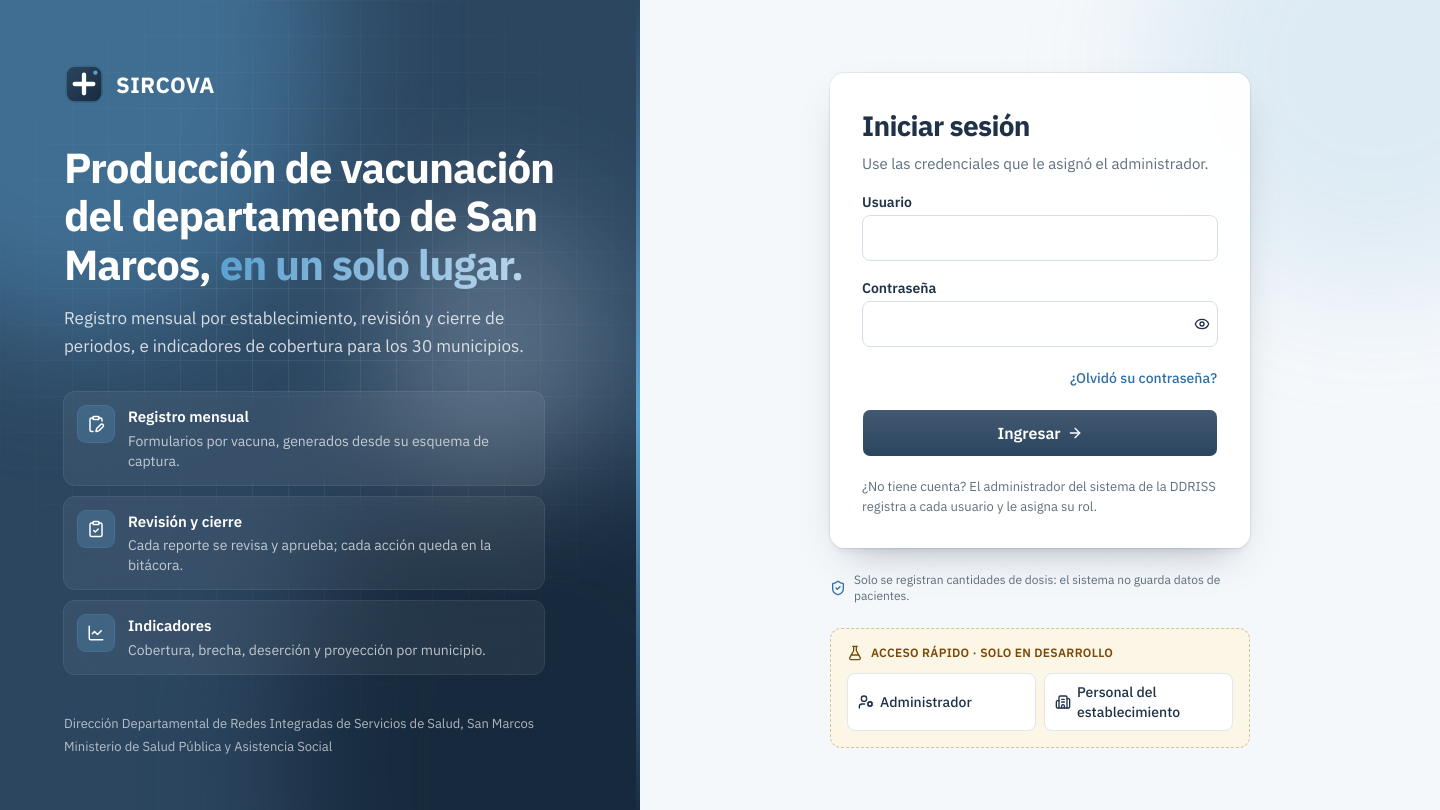
Test: con un 403 se muestra su mensaje
Expected: the heading "Iniciar sesión" is shown, [862,107,1030,144]
Type "jperez" into the field labelled "Usuario" at (1040, 238), box [862,215,1218,261]
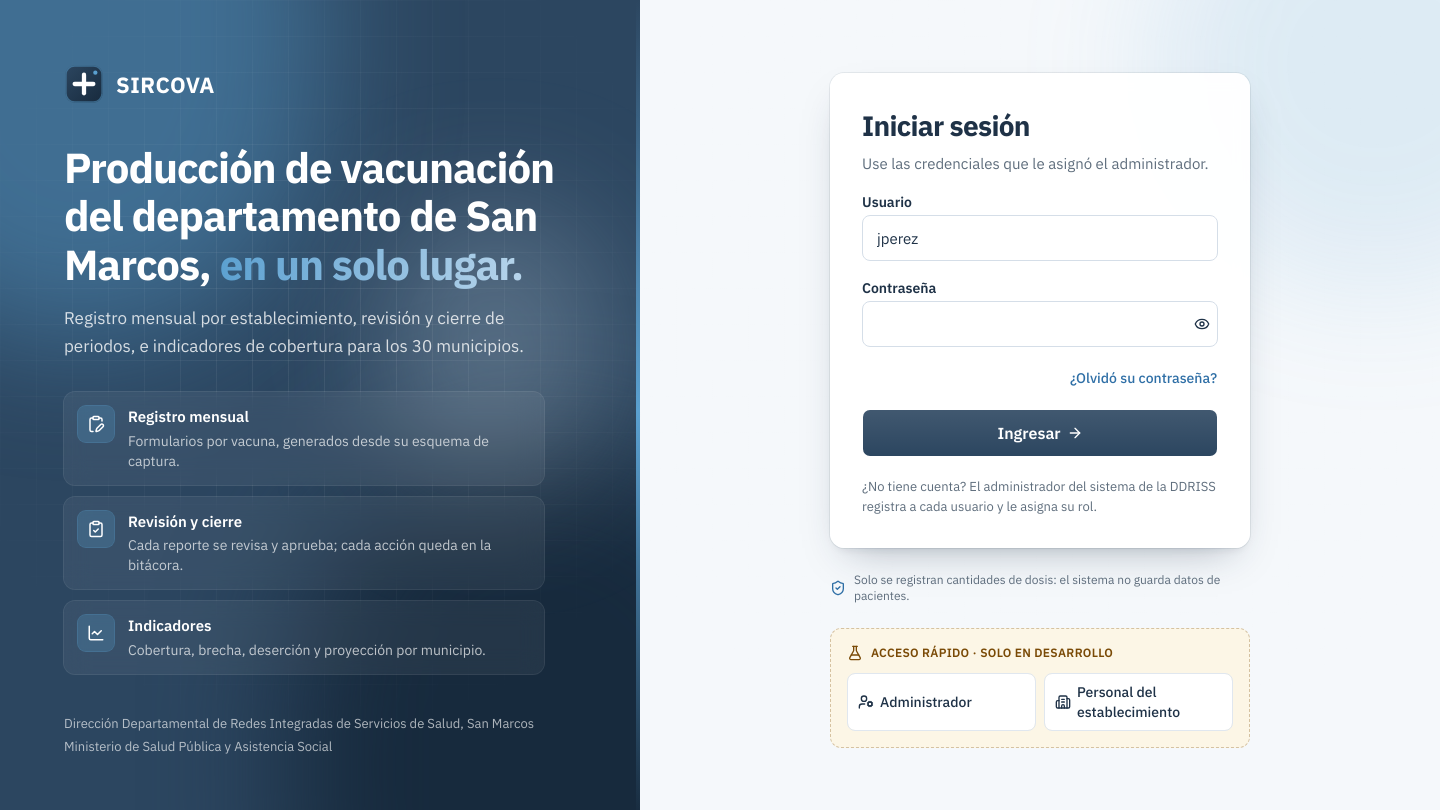
Type "secreta123" into the password field labelled "Contraseña" at (1040, 324), box [862,301,1218,347]
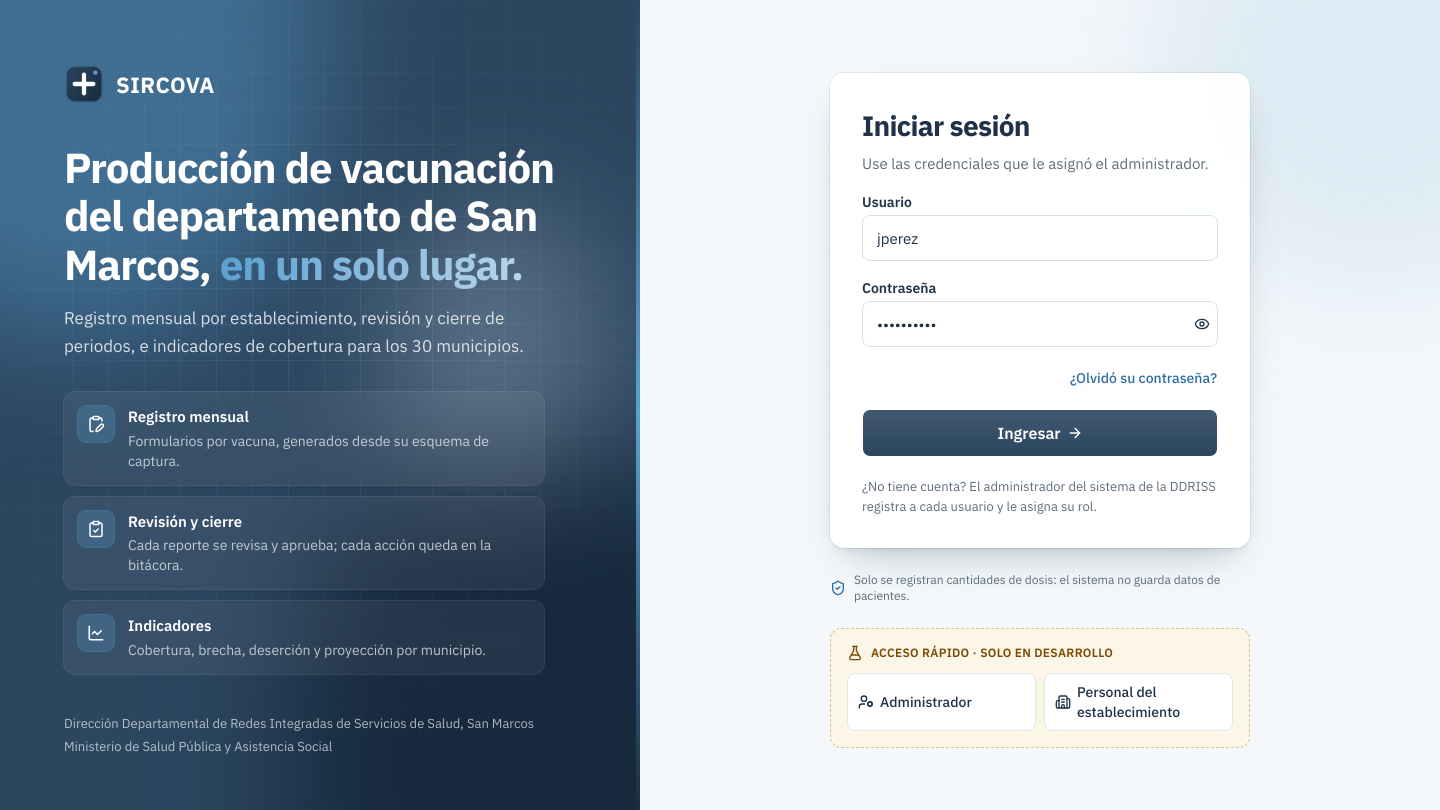
Click the button "Ingresar" at (1040, 433), box [862,409,1218,457]
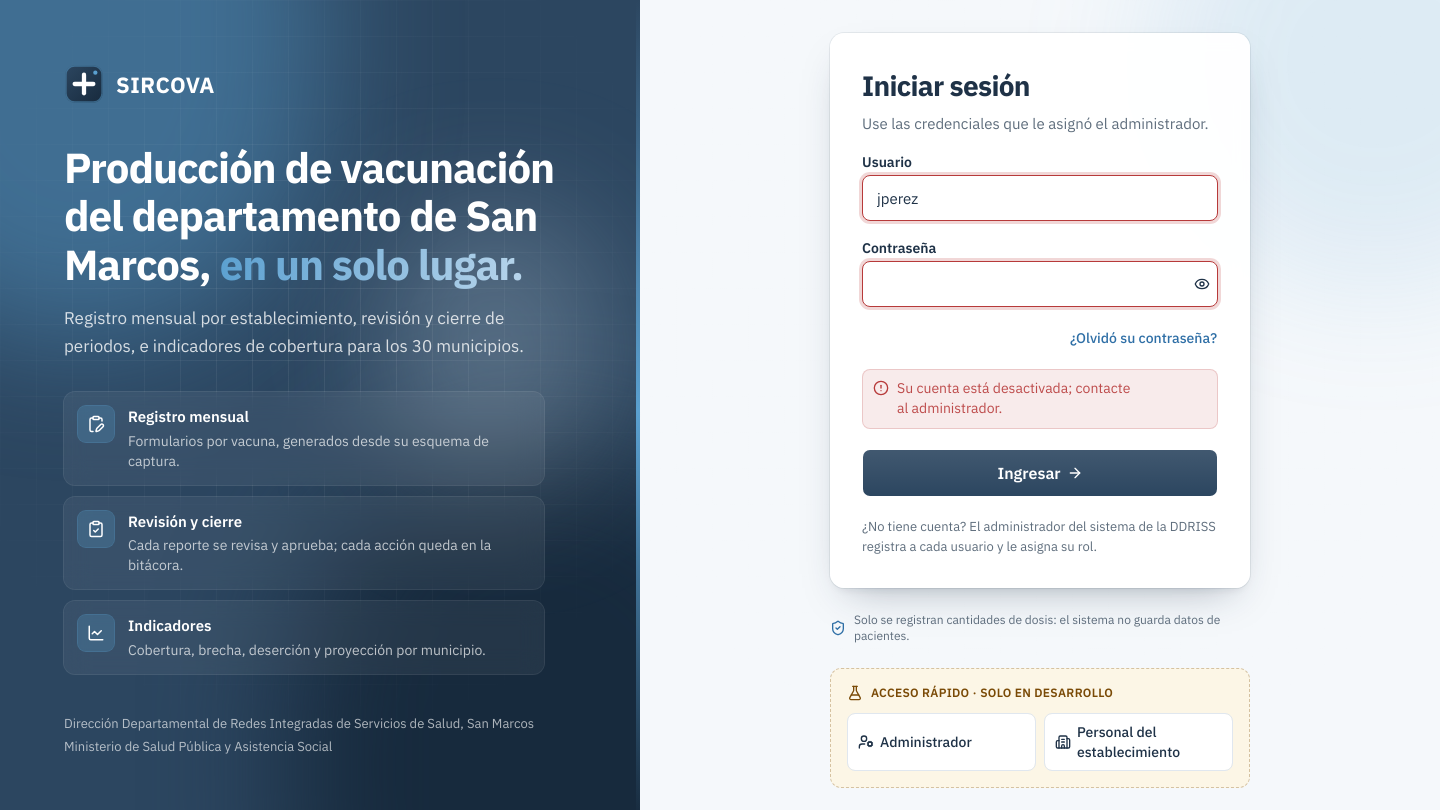
Expected: the message reads "Su cuenta está desactivada; contacte al administrador.", [897,379,1130,417]
